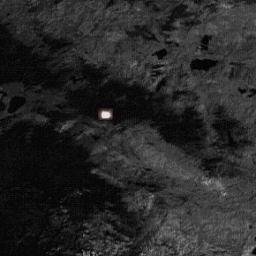Target: (98, 109, 111, 119)
